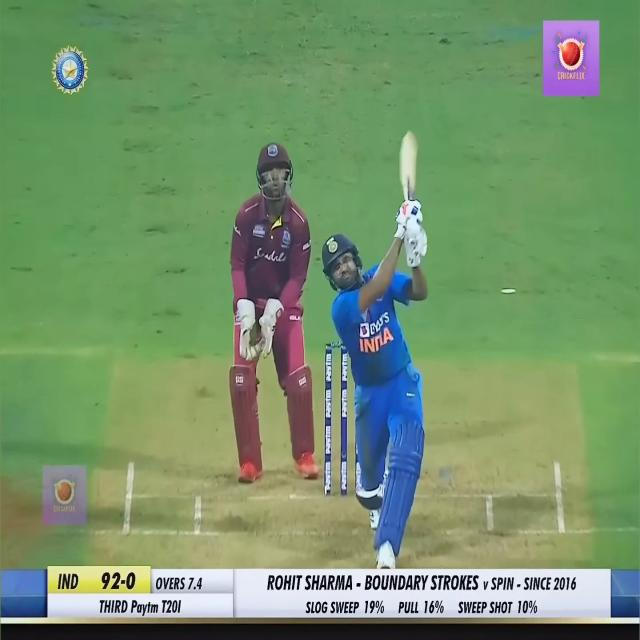fully_visible: (130, 596, 160, 622)
